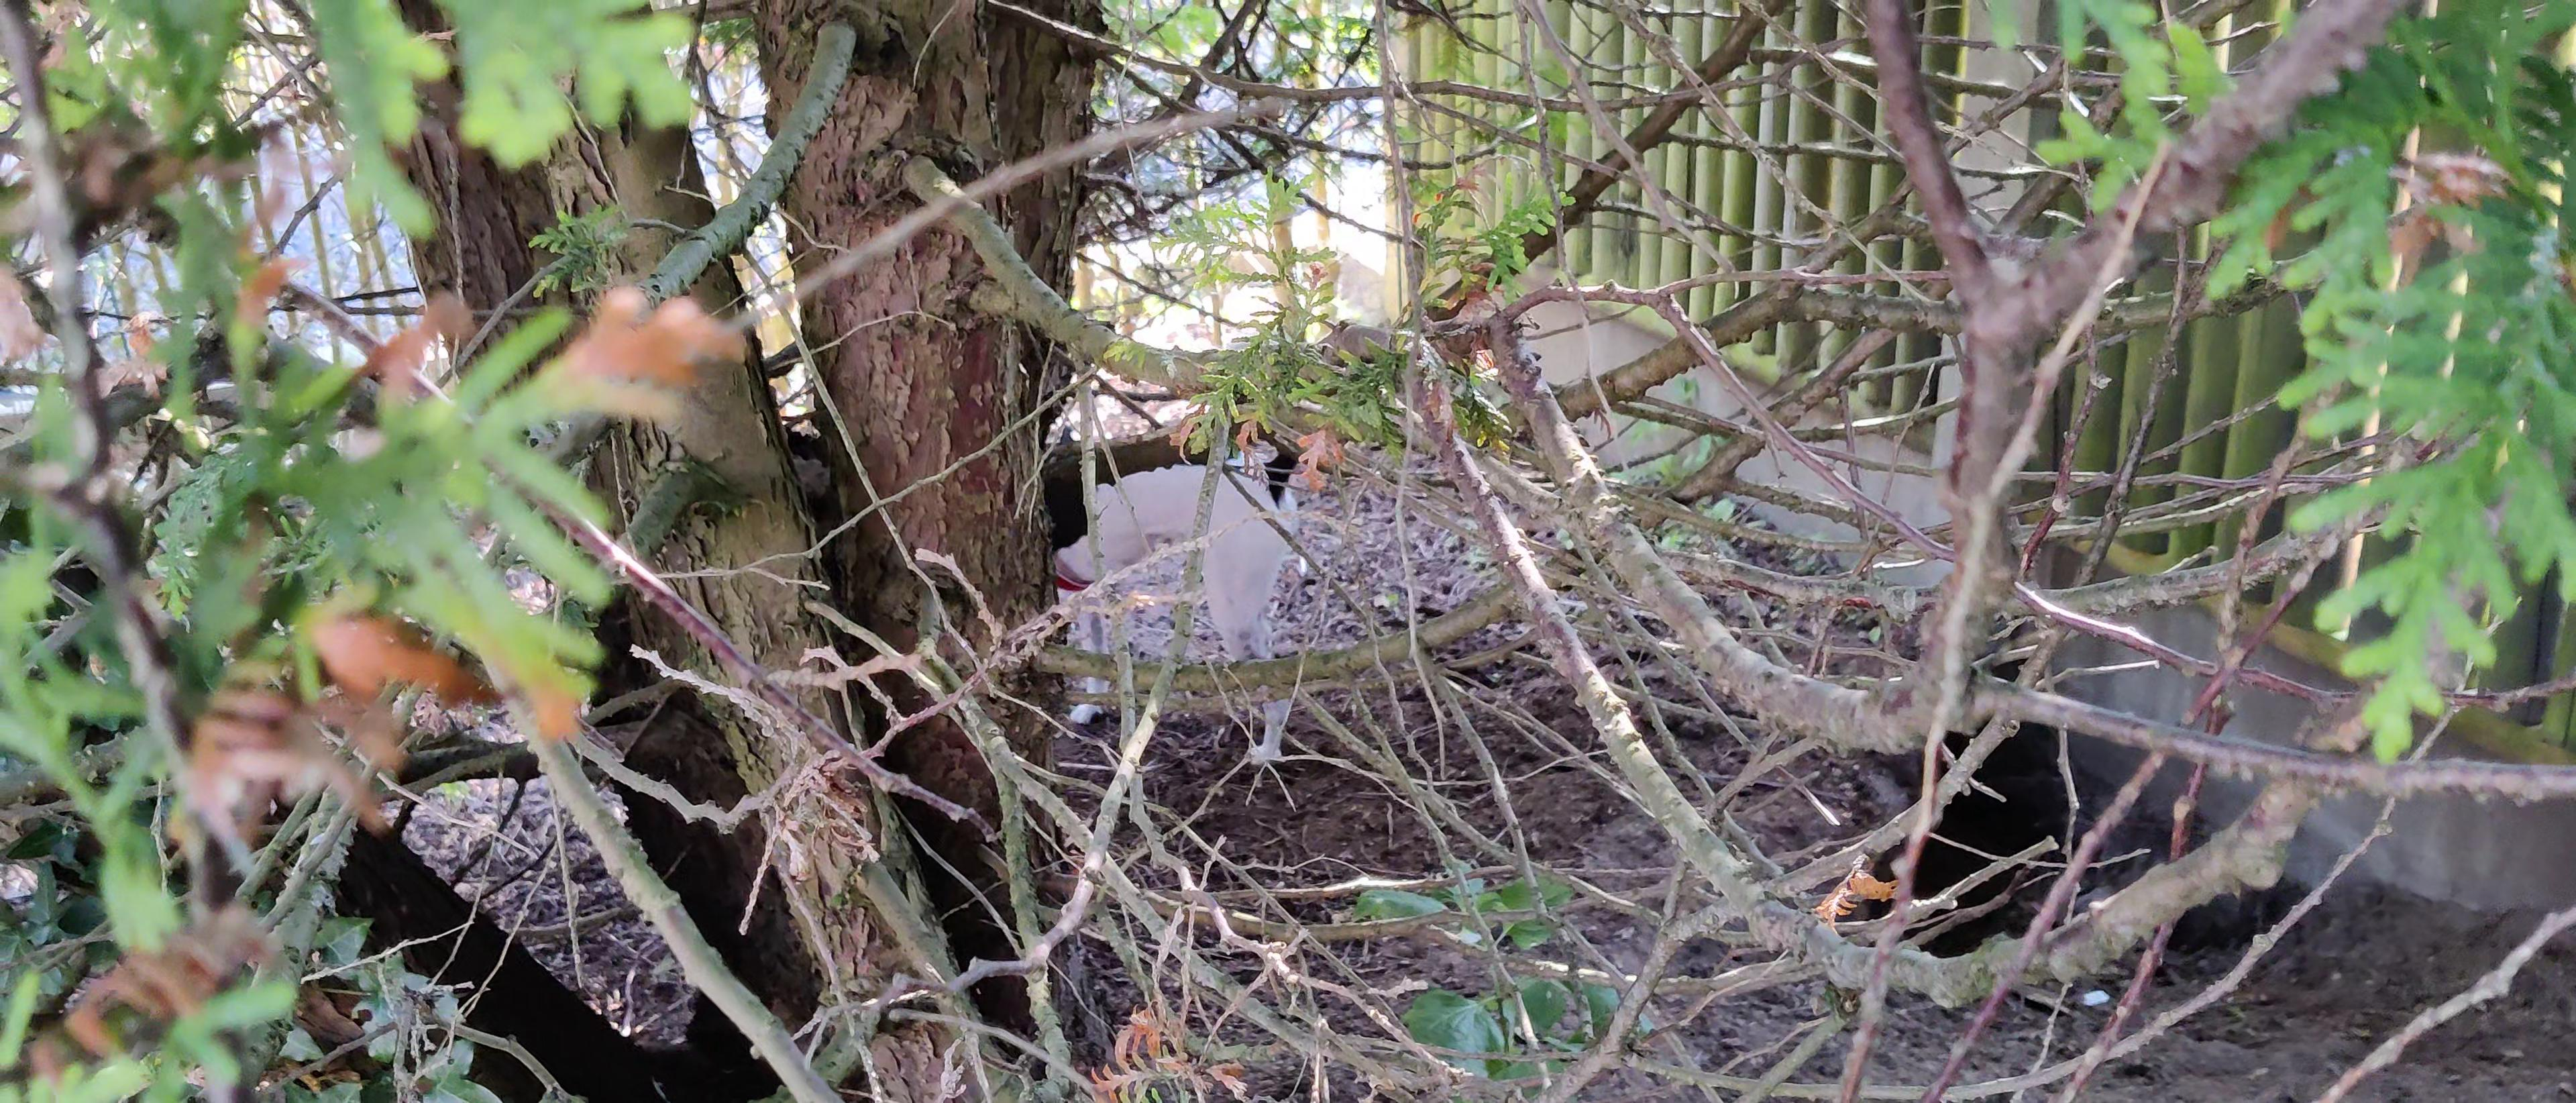Dog: (1007, 391, 1326, 768)
